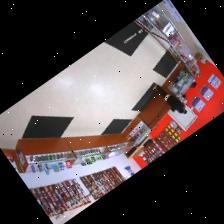person: (153, 84, 184, 112)
